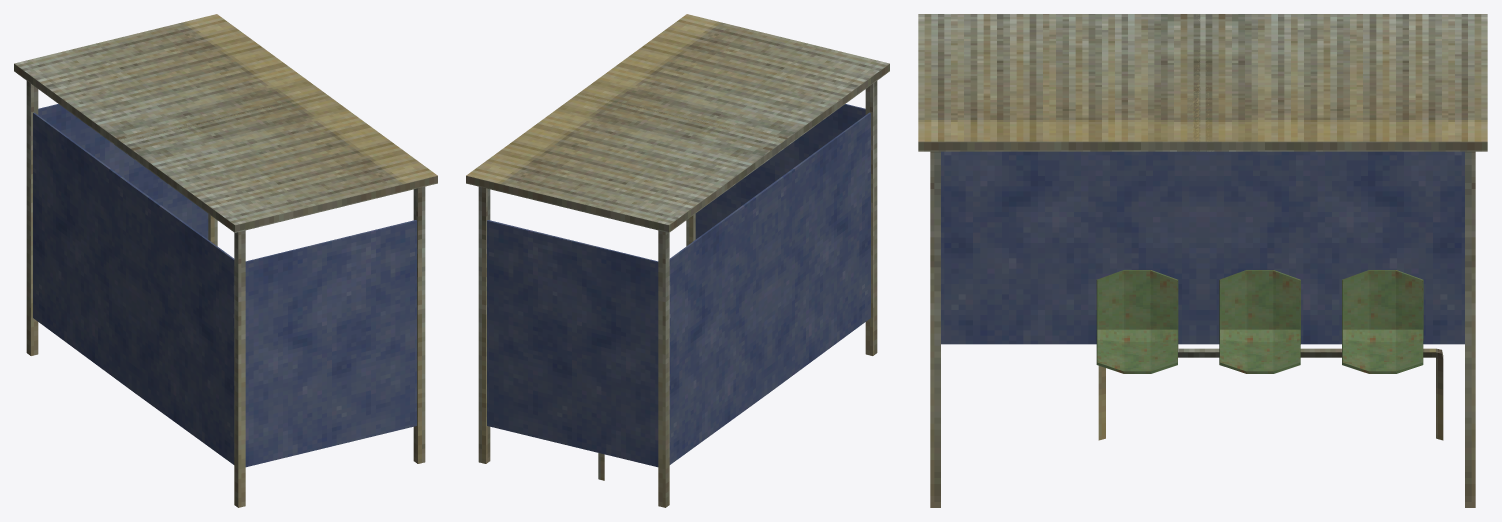
The model's file is bus_shelter.glb.
3 renders of one model, left to right at view 1: azimuth 30°, elevation 25°; view 2: azimuth 150°, elevation 25°; view 3: azimuth 270°, elevation 25°, orthographic. The views are drawn at different scales.
Visible parts, largest first — view 1: busstop_clean_seats; view 2: busstop_clean_seats; view 3: busstop_clean_seats.
Part boxes in pixels (<box>): busstop_clean_seats: <box>14,14,437,507</box>; busstop_clean_seats: <box>466,14,889,507</box>; busstop_clean_seats: <box>918,14,1487,507</box>.
Size of the model in its own units: 1.81 by 2.45 by 3.41.
1 material, 1 textured.
